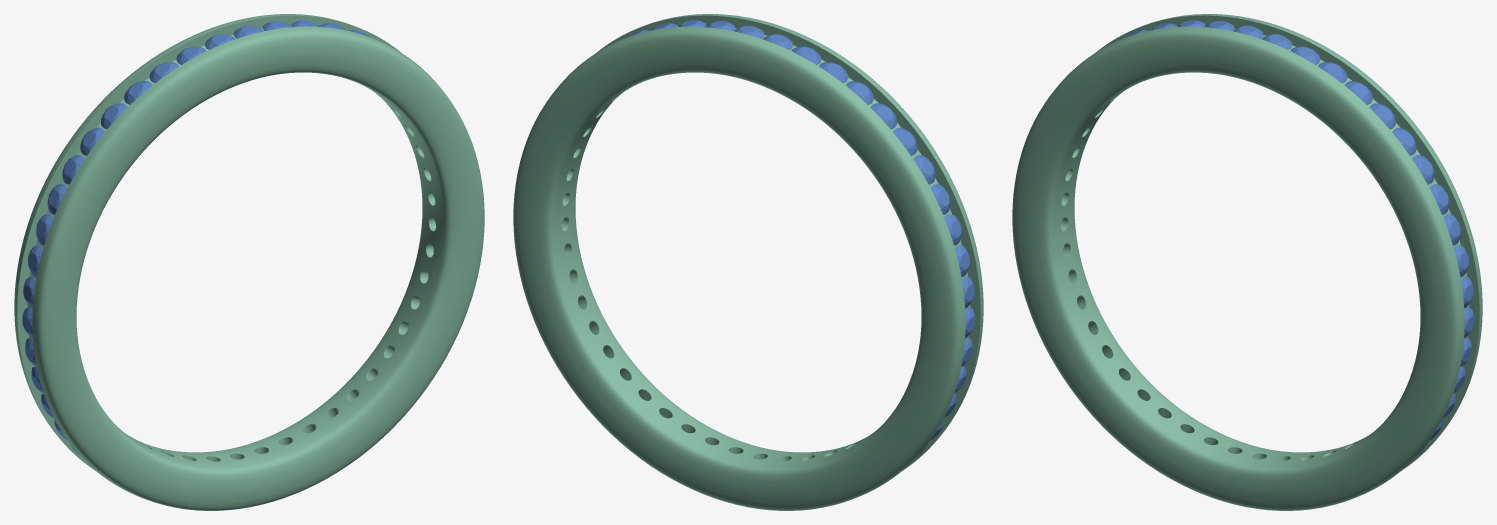
3 renders of one model, left to right at view 1: azimuth 30°, elevation 25°; view 2: azimuth 150°, elevation 25°; view 3: azimuth 330°, elevation 25°, orthographic.
Parts seen in each view (by area): view 1: Export_1_Blank.3dm; view 2: Export_1_Blank.3dm; view 3: Export_1_Blank.3dm.
Boxes of the visible parts, x1=… form: Export_1_Blank.3dm: x1=14, y1=14, x2=484, y2=510; Export_1_Blank.3dm: x1=513, y1=14, x2=983, y2=510; Export_1_Blank.3dm: x1=1012, y1=14, x2=1482, y2=510.
Size of the model in its own units: 2.82 by 2.82 by 0.3307.
